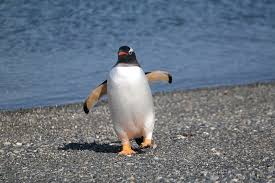Walking: (73, 40, 181, 165)
